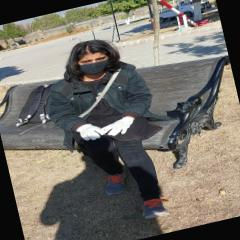gloved: (104, 116, 135, 138), (76, 121, 104, 142)
